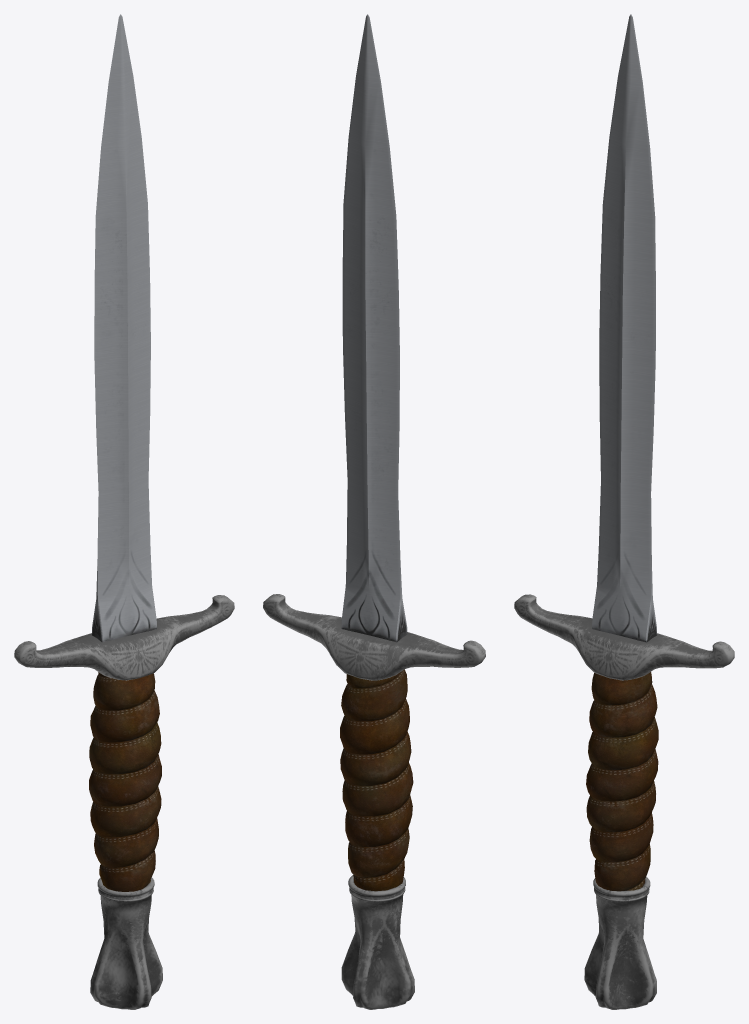
File: dagger.glb
The picture shows the model from 3 angles, left to right: view 1: azimuth 30°, elevation 25°; view 2: azimuth 150°, elevation 25°; view 3: azimuth 330°, elevation 25°; orthographic projection.
Visible parts, largest first — view 1: ornate_medieval_dagger; view 2: ornate_medieval_dagger; view 3: ornate_medieval_dagger.
Part boxes in pixels (x1,y1,x2,y2): ornate_medieval_dagger: (14, 14, 234, 1009); ornate_medieval_dagger: (263, 14, 485, 1009); ornate_medieval_dagger: (514, 14, 734, 1009).
Bounding box in the file's own units: 0.0877 × 0.38 × 0.0274.
1 material, 1 textured.
